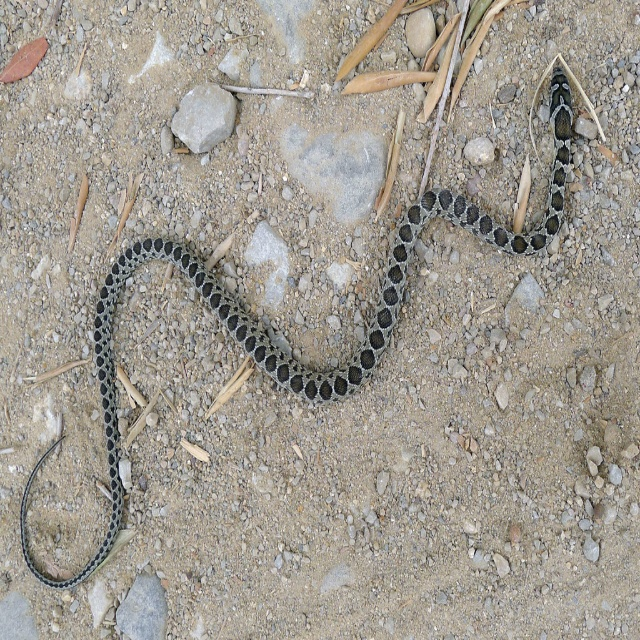Snake: (20, 67, 575, 591)
